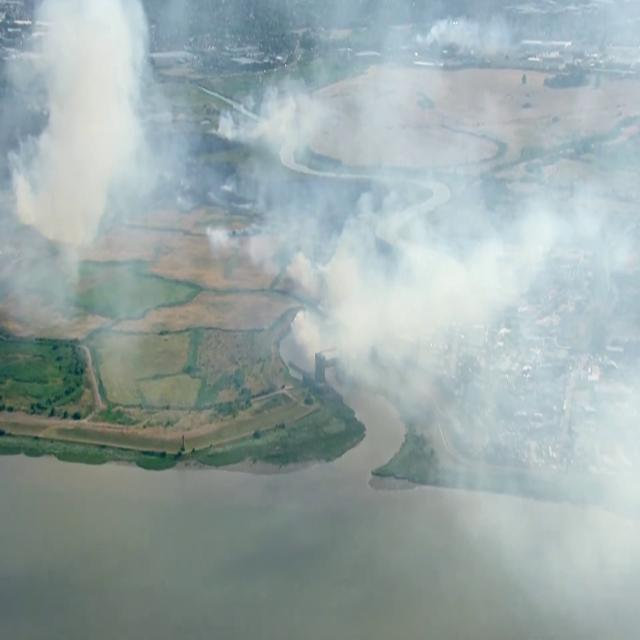Smoke: (32, 20, 124, 232)
